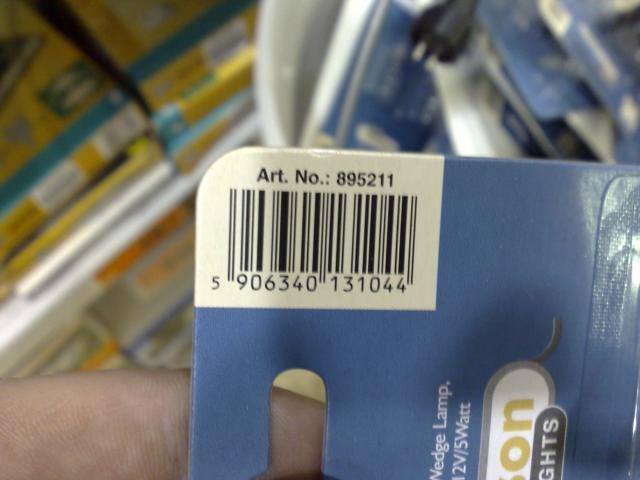Barcode: (205, 183, 430, 303)
